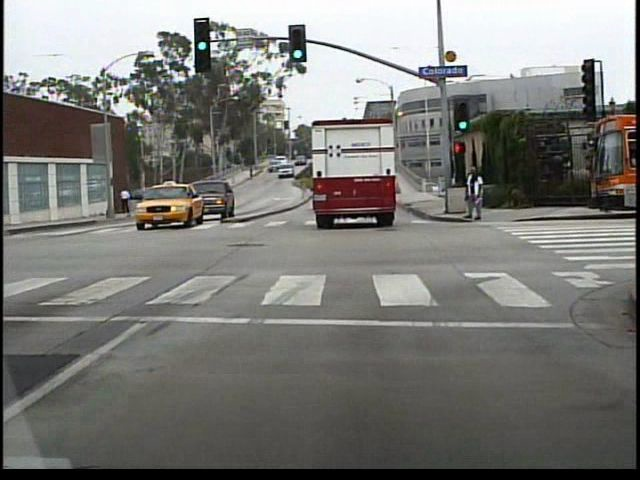person: (459, 166, 484, 225), (121, 186, 130, 217)
